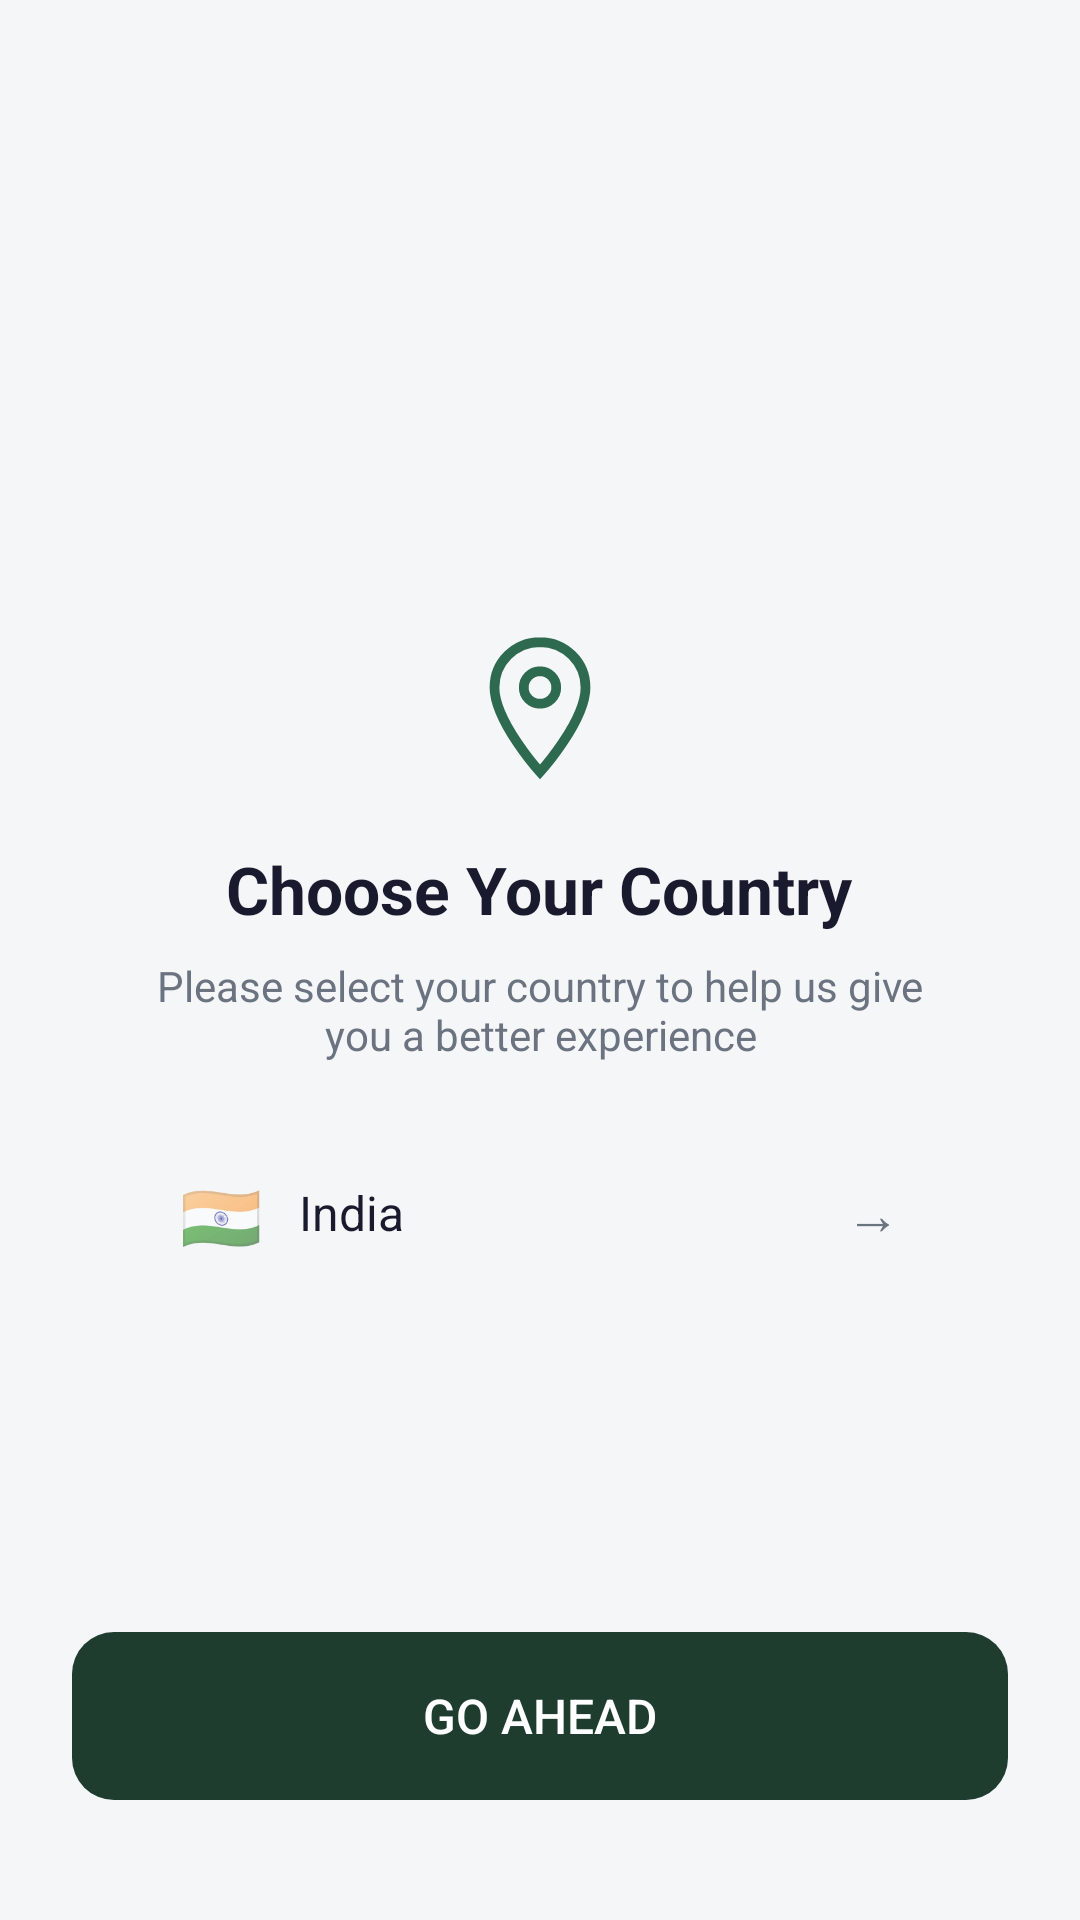

Screen size 1080 x 1920. Icon name, then its center in pixels as point (x, y):
location pin: point (540, 708)
